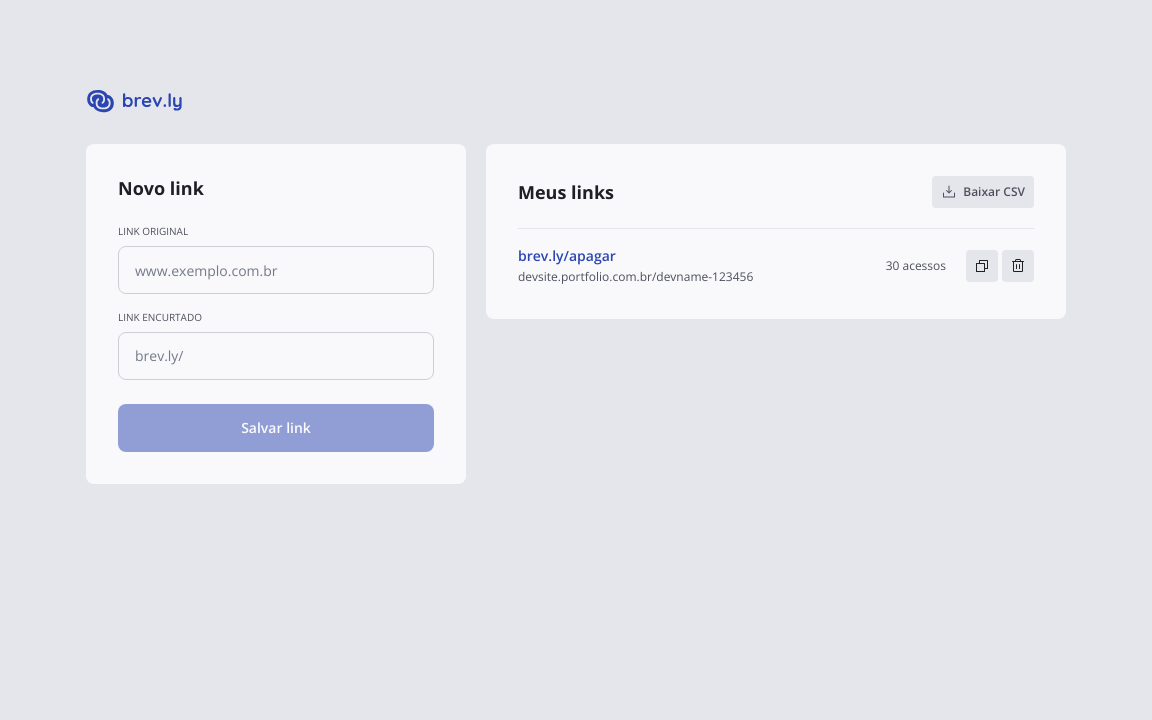
it: Home — ações da lista › copia a URL encurtada real
Click the button named "Copiar brev.ly/apagar" at (982, 266), box [966,250,998,282]
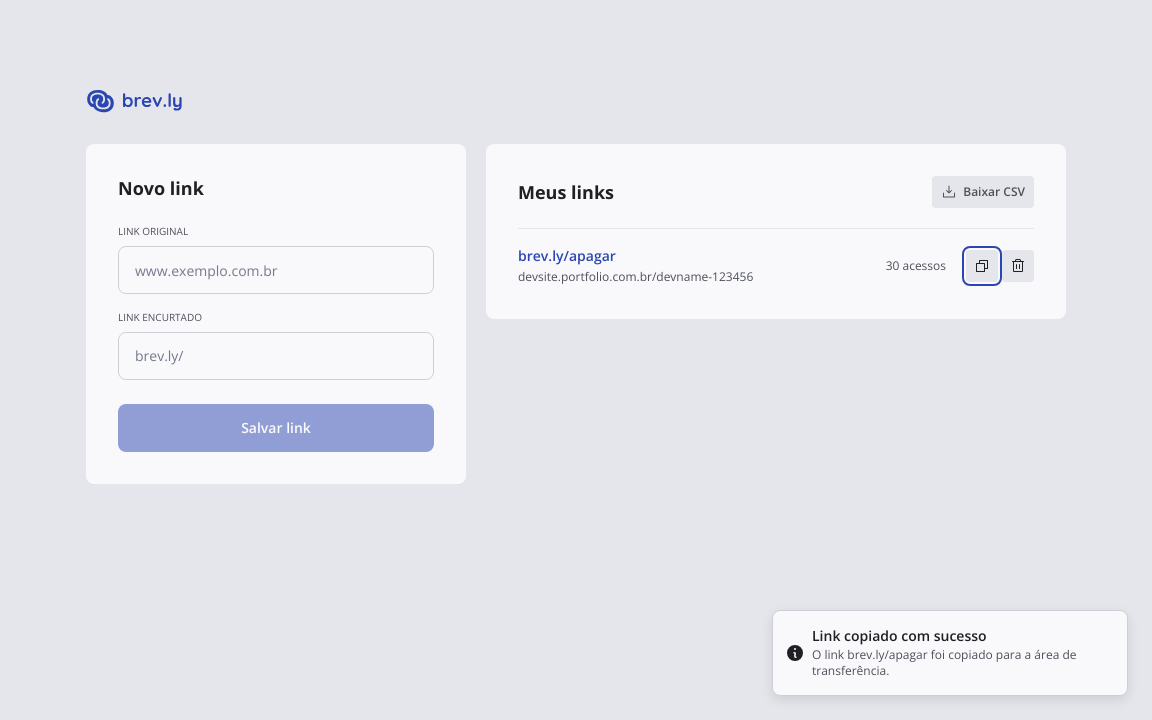
Now the text "Link copiado com sucesso" is shown, box [812,626,987,645]
